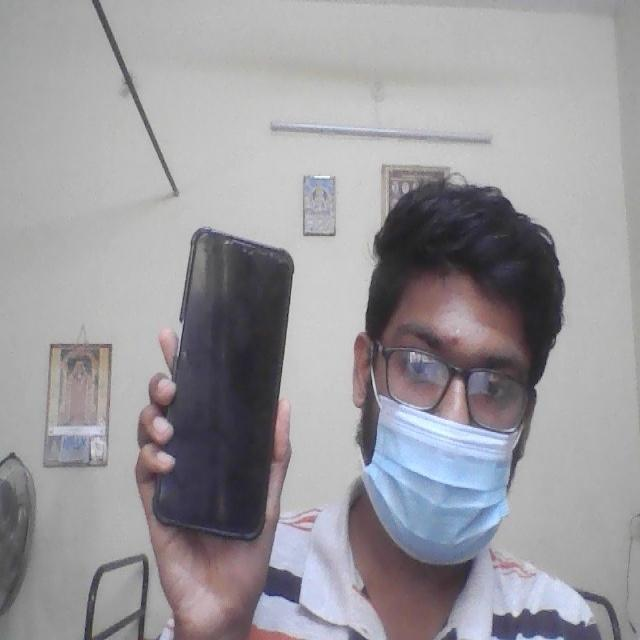Mobile: (144, 218, 303, 552)
